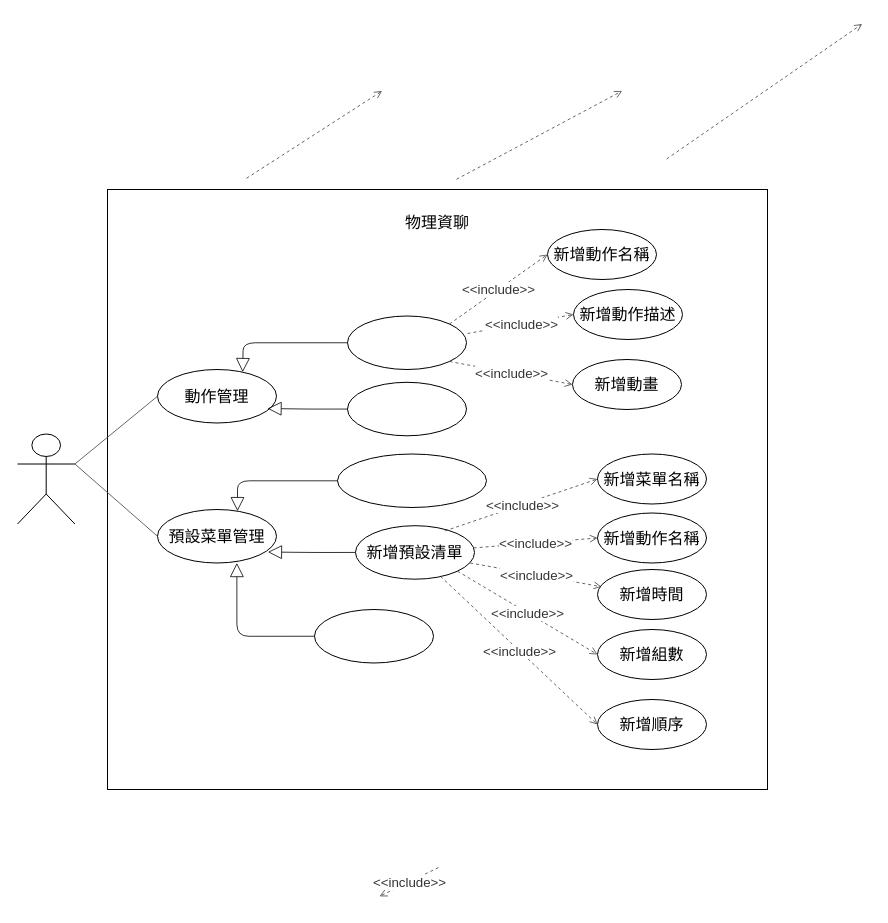
Image size: 888x923. Some labels were removed from this diagram. Each missing label, with the centre of its shape:
"刪除預設清單" goes at point 374,635.
"新增動作" goes at point 406,342.
"管理者" goes at point 45,478.
"顯示動作清單" goes at point 406,408.
"顯示預設菜單清單" goes at point 411,480.
